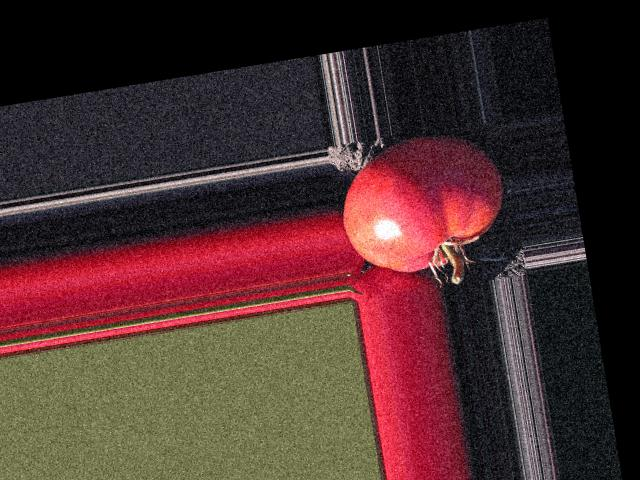tomato: (332, 124, 513, 280)
